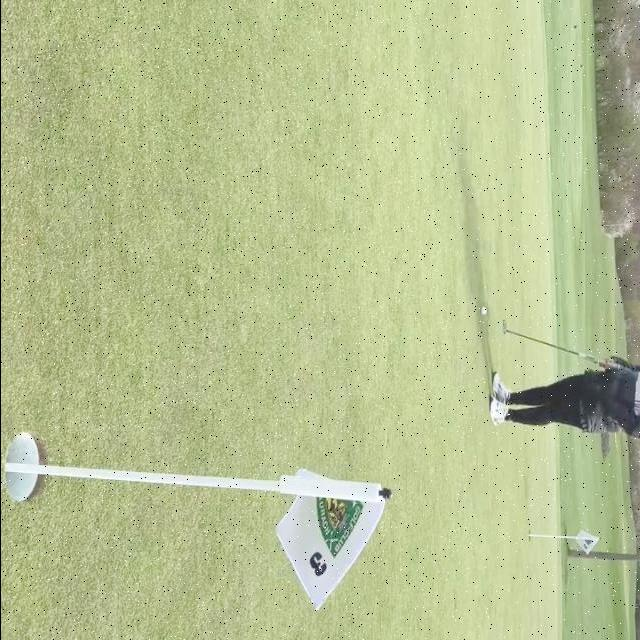ClubHandle: (502, 319, 620, 369)
ClubHead: (502, 319, 506, 335)
GolfBall: (479, 307, 485, 315)
